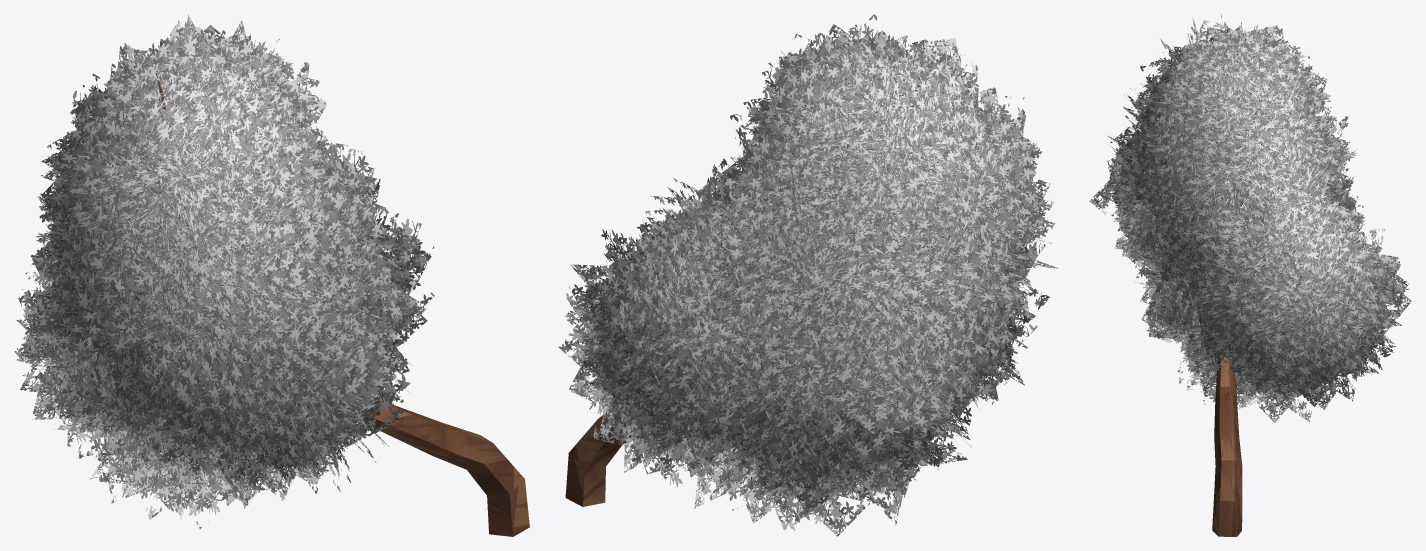
File: M_Tree3_CO.fbx
The picture shows the model from 3 angles, left to right: view 1: azimuth 30°, elevation 25°; view 2: azimuth 150°, elevation 25°; view 3: azimuth 270°, elevation 25°; orthographic projection. The views are drawn at different scales.
Parts seen in each view (by area): view 1: quick_basic_tree1; view 2: quick_basic_tree1; view 3: quick_basic_tree1.
Part boxes in pixels (<box>): quick_basic_tree1: <box>14,14,529,536</box>; quick_basic_tree1: <box>558,14,1058,536</box>; quick_basic_tree1: <box>1089,14,1411,536</box>.
Bounding box in the file's own units: 9.44 × 10.71 × 7.69.
